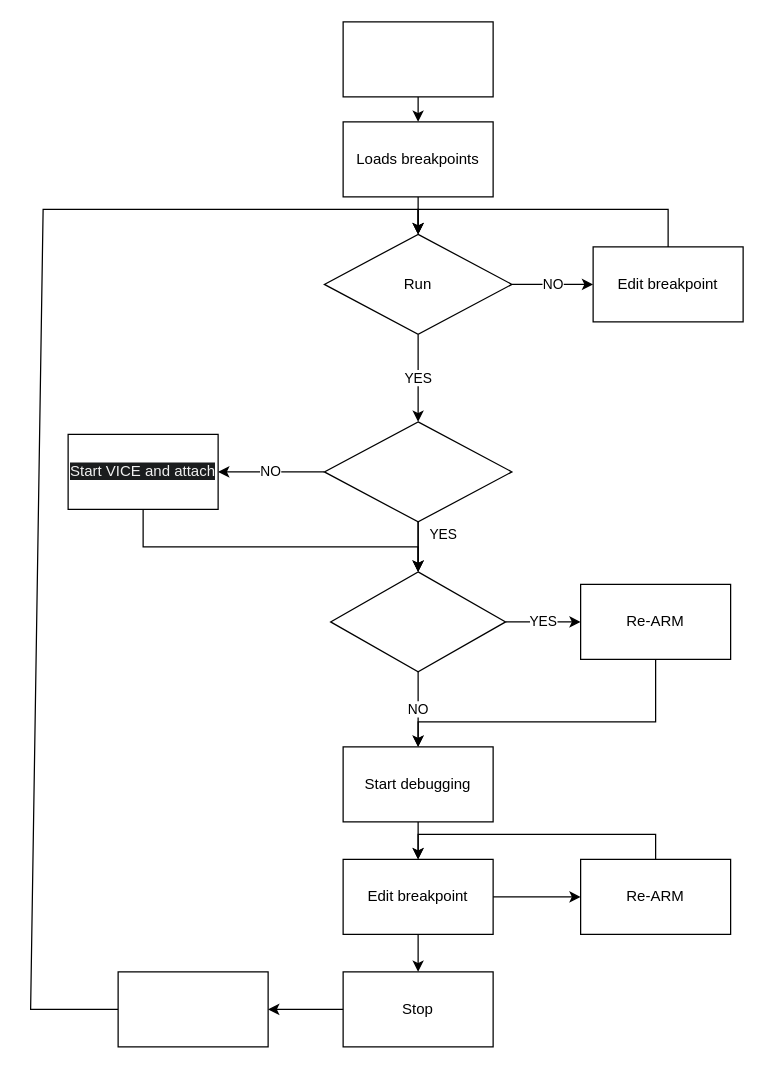
Image size: 765x1069. Some labels were removed from this diagram. Here are the shapes that lost their labels. From the top down, the centre of each, then its label:
pixel 417 59: Debugger starts
pixel 417 471: Is VICE attached
pixel 417 621: Has pdb changed (including cool start)
pixel 192 1009: Clear?
